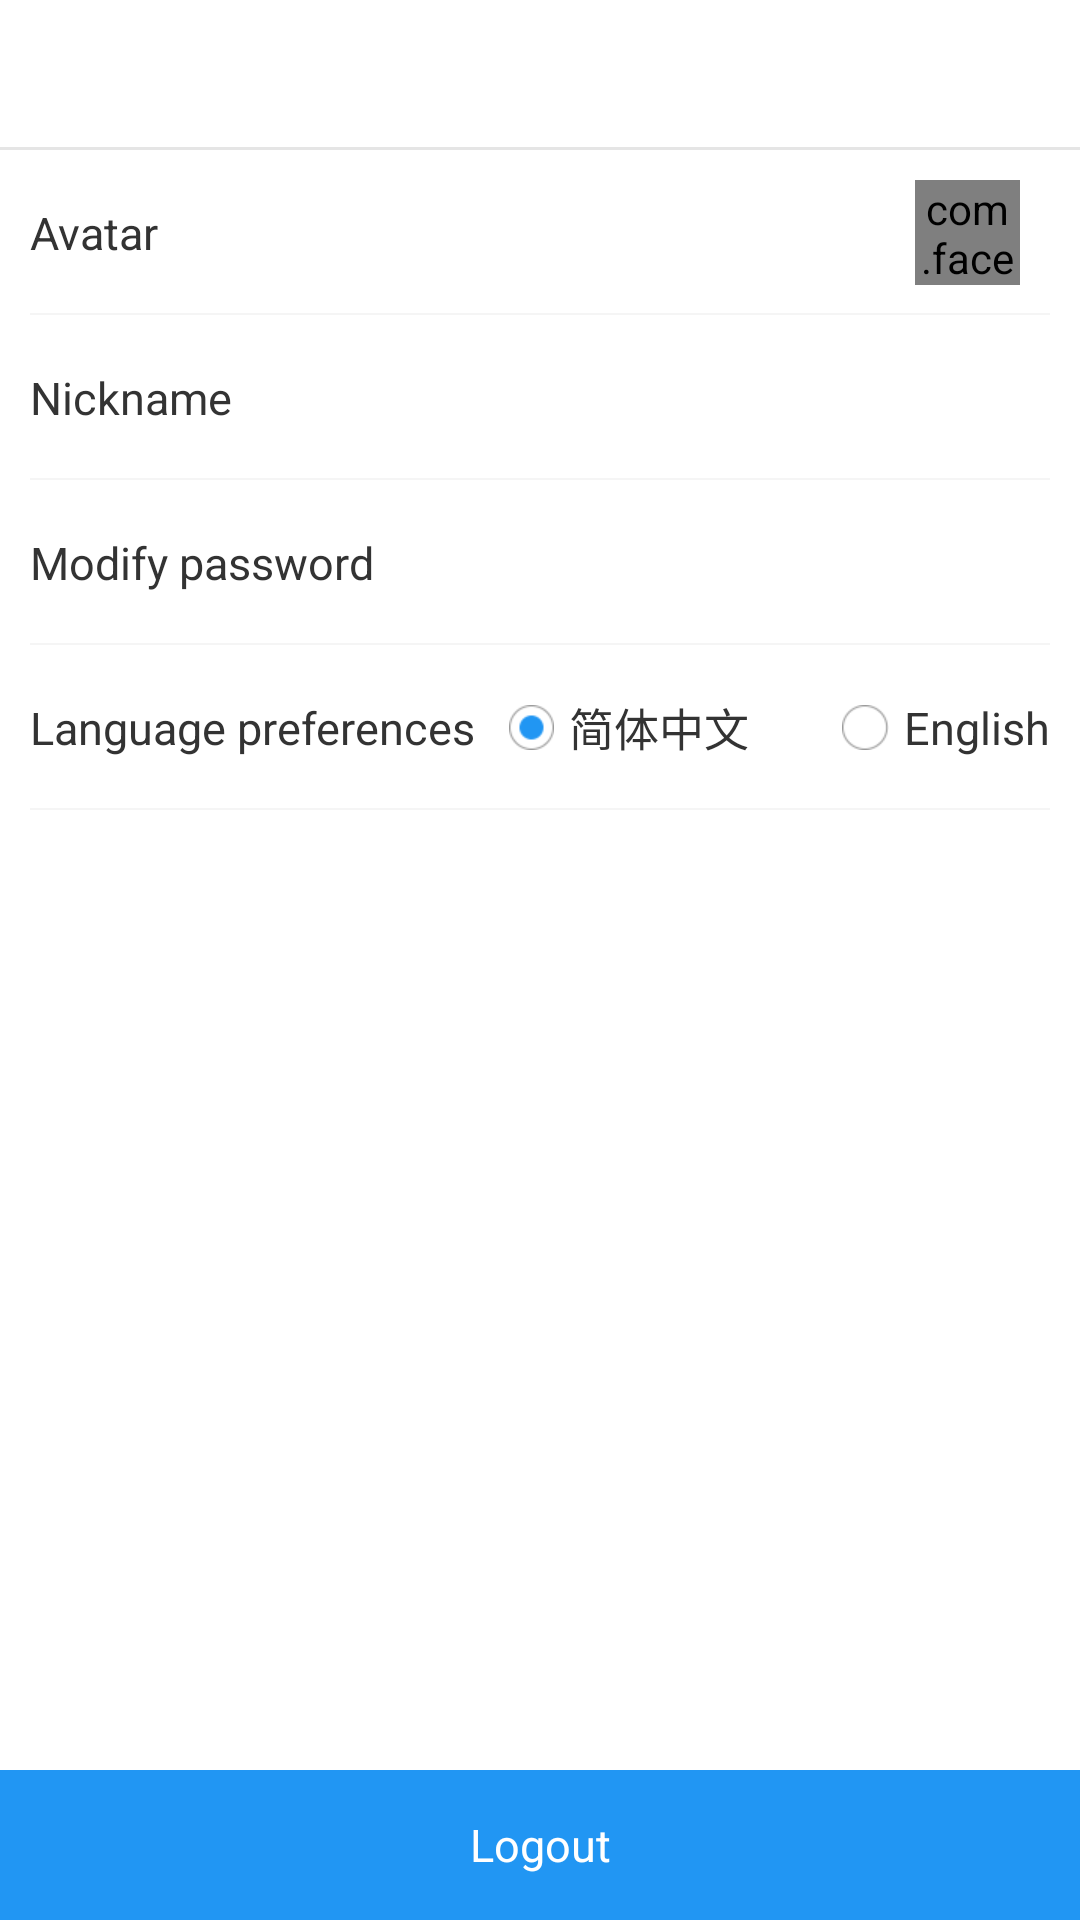

Screen size 1080px×1920px. Icon name, then its center in pixels as point (x, y):
circle check state: point (531, 727), point (865, 727)
